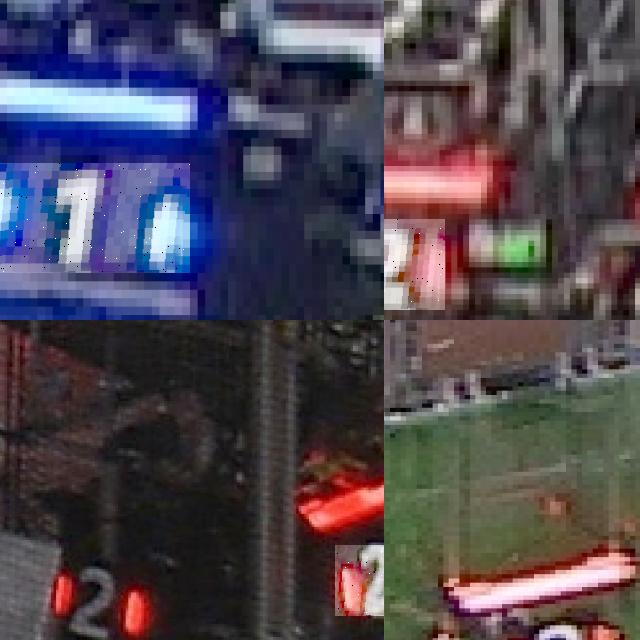B1: (0, 163, 190, 272)
R2: (39, 570, 157, 640), (384, 219, 445, 309), (334, 545, 384, 616), (507, 616, 619, 640)
